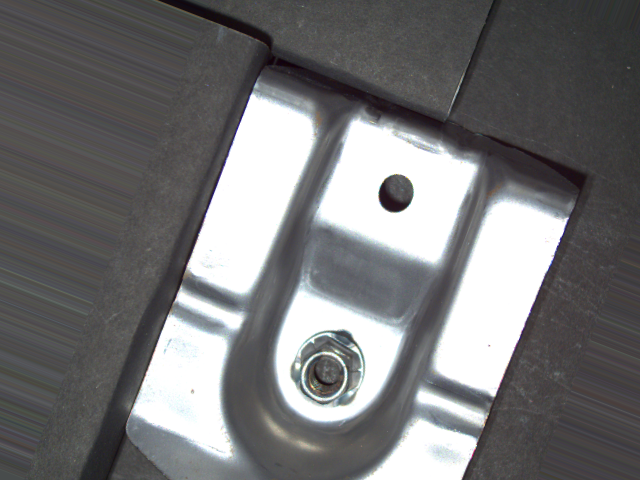good: (287, 327, 370, 414)
